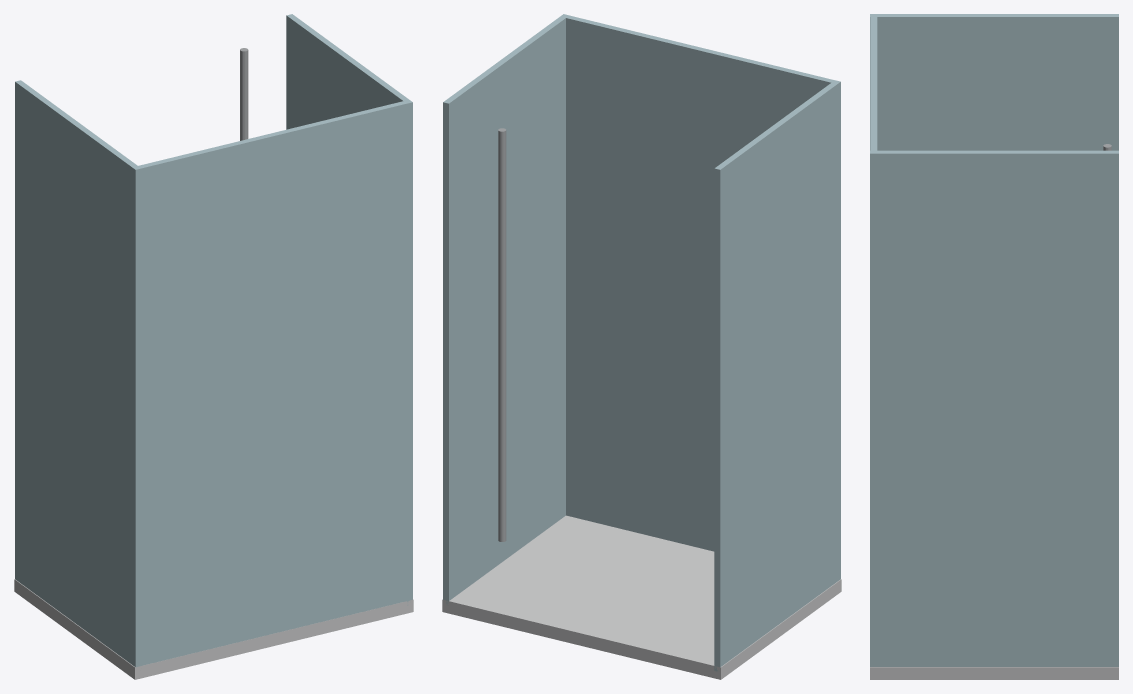
File: shower-1200.glb
The picture shows the model from 3 angles, left to right: view 1: azimuth 30°, elevation 25°; view 2: azimuth 150°, elevation 25°; view 3: azimuth 270°, elevation 25°; orthographic projection. The views are drawn at different scales.
Parts seen in each view (by area): view 1: world; view 2: world; view 3: world.
Boxes of the visible parts, bbox=[...] form: world: bbox=[14, 14, 413, 679]; world: bbox=[442, 14, 841, 679]; world: bbox=[870, 14, 1118, 679].
Bounding box in the file's own units: 1.2 × 2.1 × 0.9.
